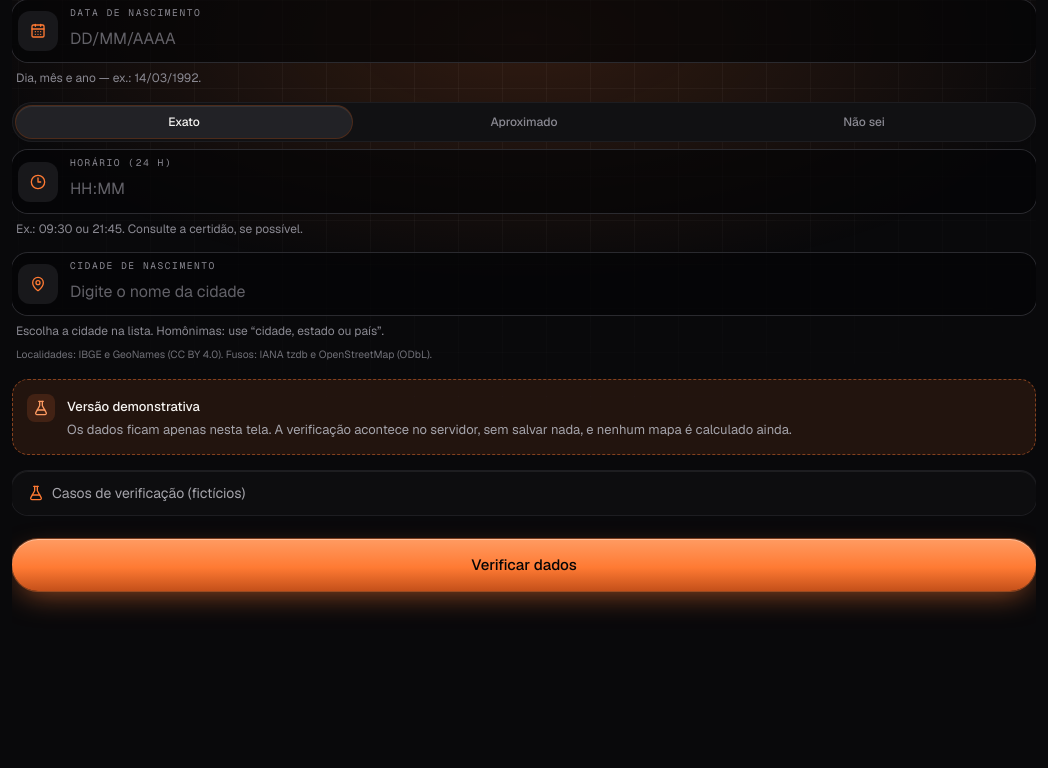
Test: BirthDataForm › explica horário inexistente sem ajustá-lo
The width and height of the screenshot is (1048, 768).
In the field labelled "Data de nascimento": x=545, y=38 [70, 20, 1020, 56], type "15011986"
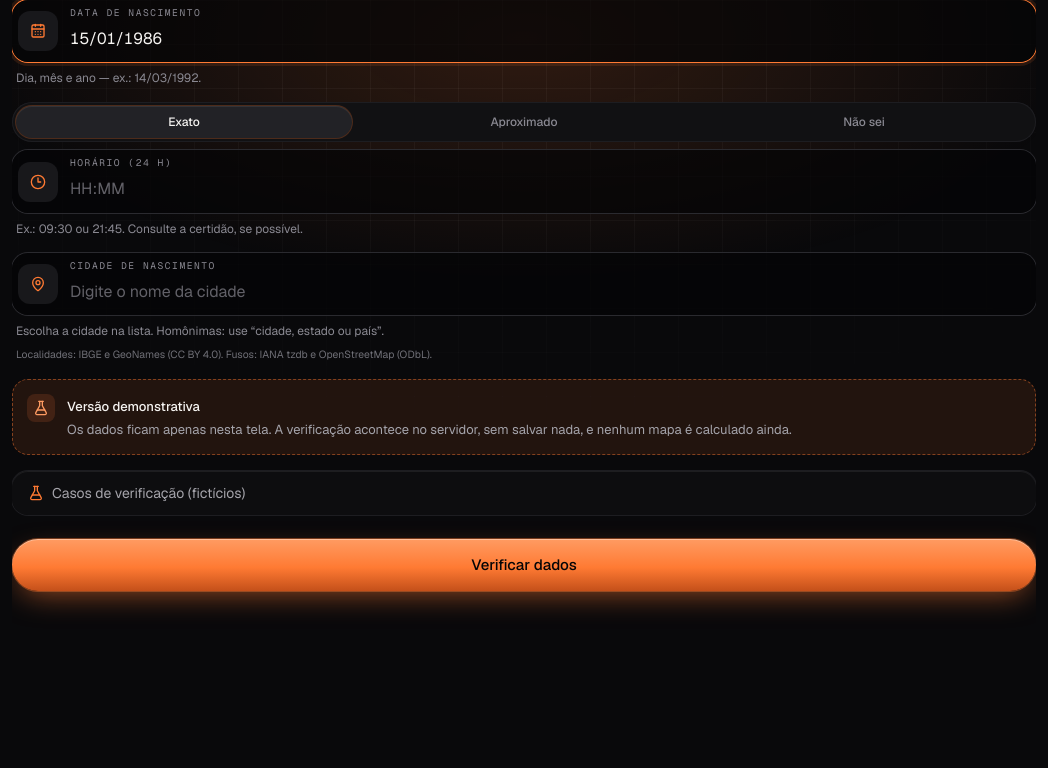
In the field labelled "Horário (24 h)": x=545, y=189 [70, 171, 1020, 207], type "1430"
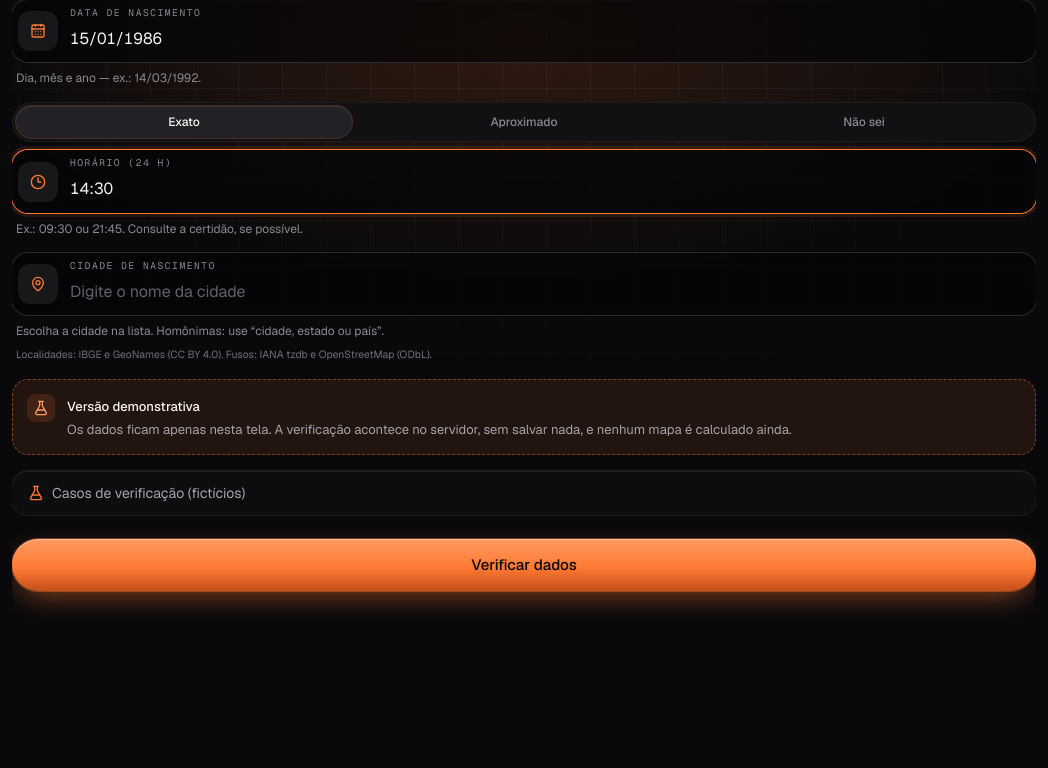
In the dropdown labelled "Cidade de nascimento": x=545, y=291 [70, 273, 1020, 309], type "Recife"
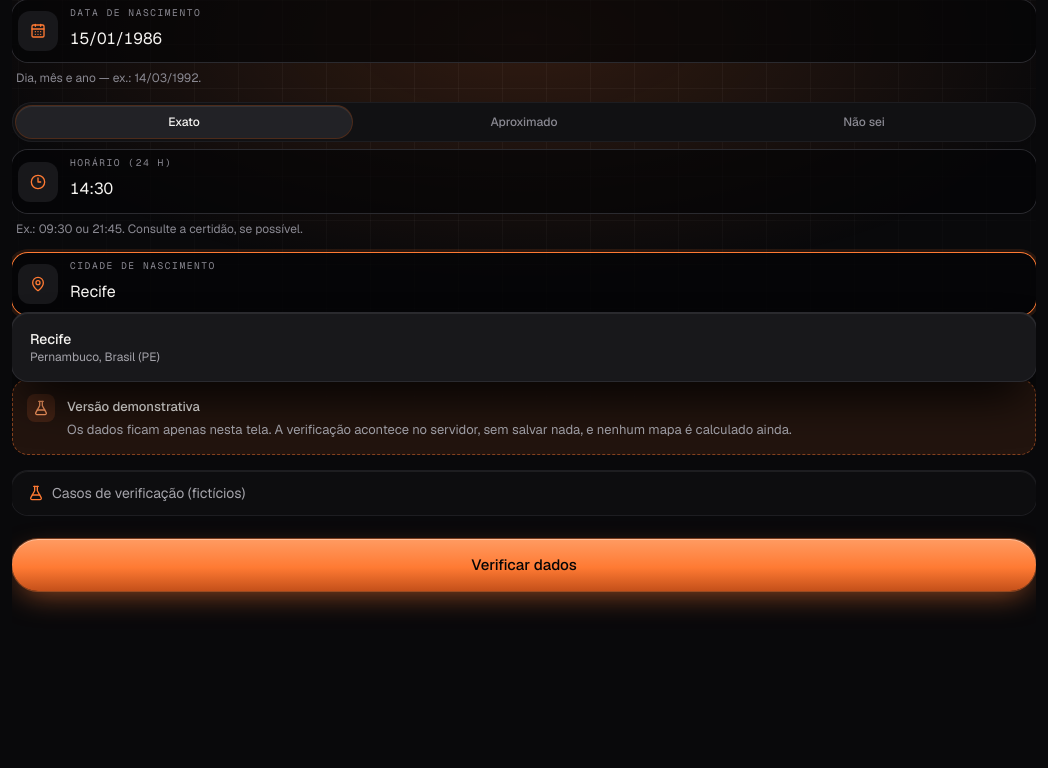
Click the option "Recife Pernambuco, Brasil (PE)": x=95, y=347 [30, 330, 160, 365]
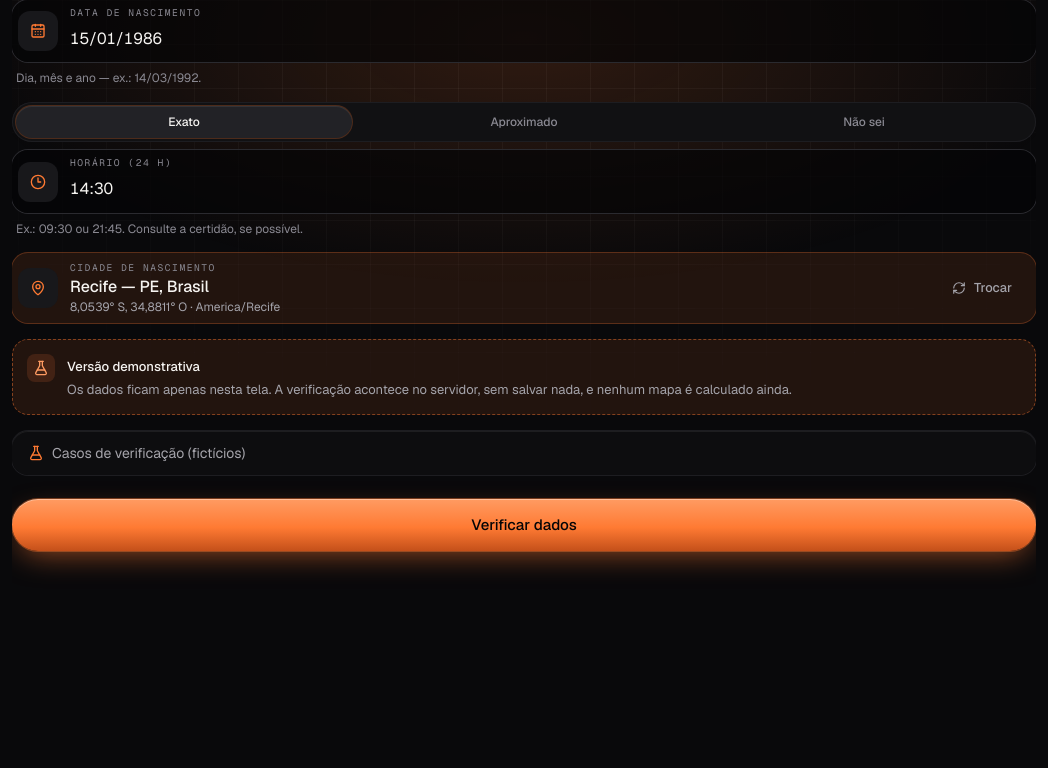
Click the button "Verificar dados": x=524, y=525 [12, 499, 1036, 551]
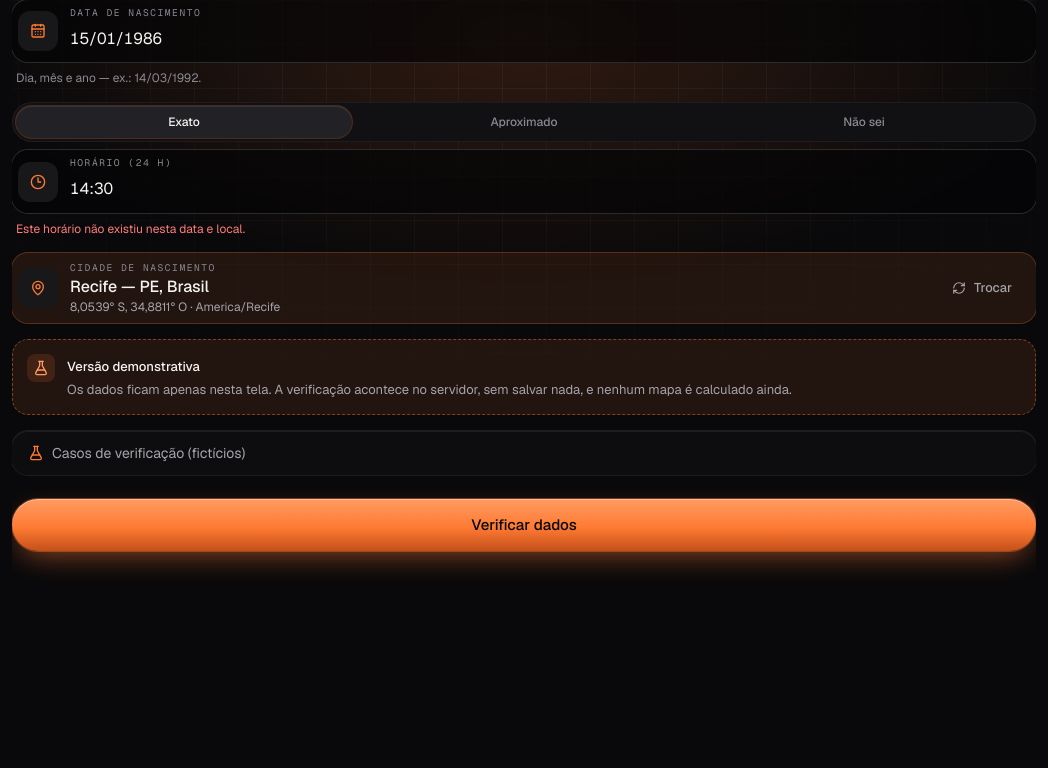
Result: the field labelled "Horário (24 h)" holds "14:30" at [70, 171, 1020, 207]
Result: the text "Este horário não existiu nesta data e local." is shown at [16, 221, 245, 237]
